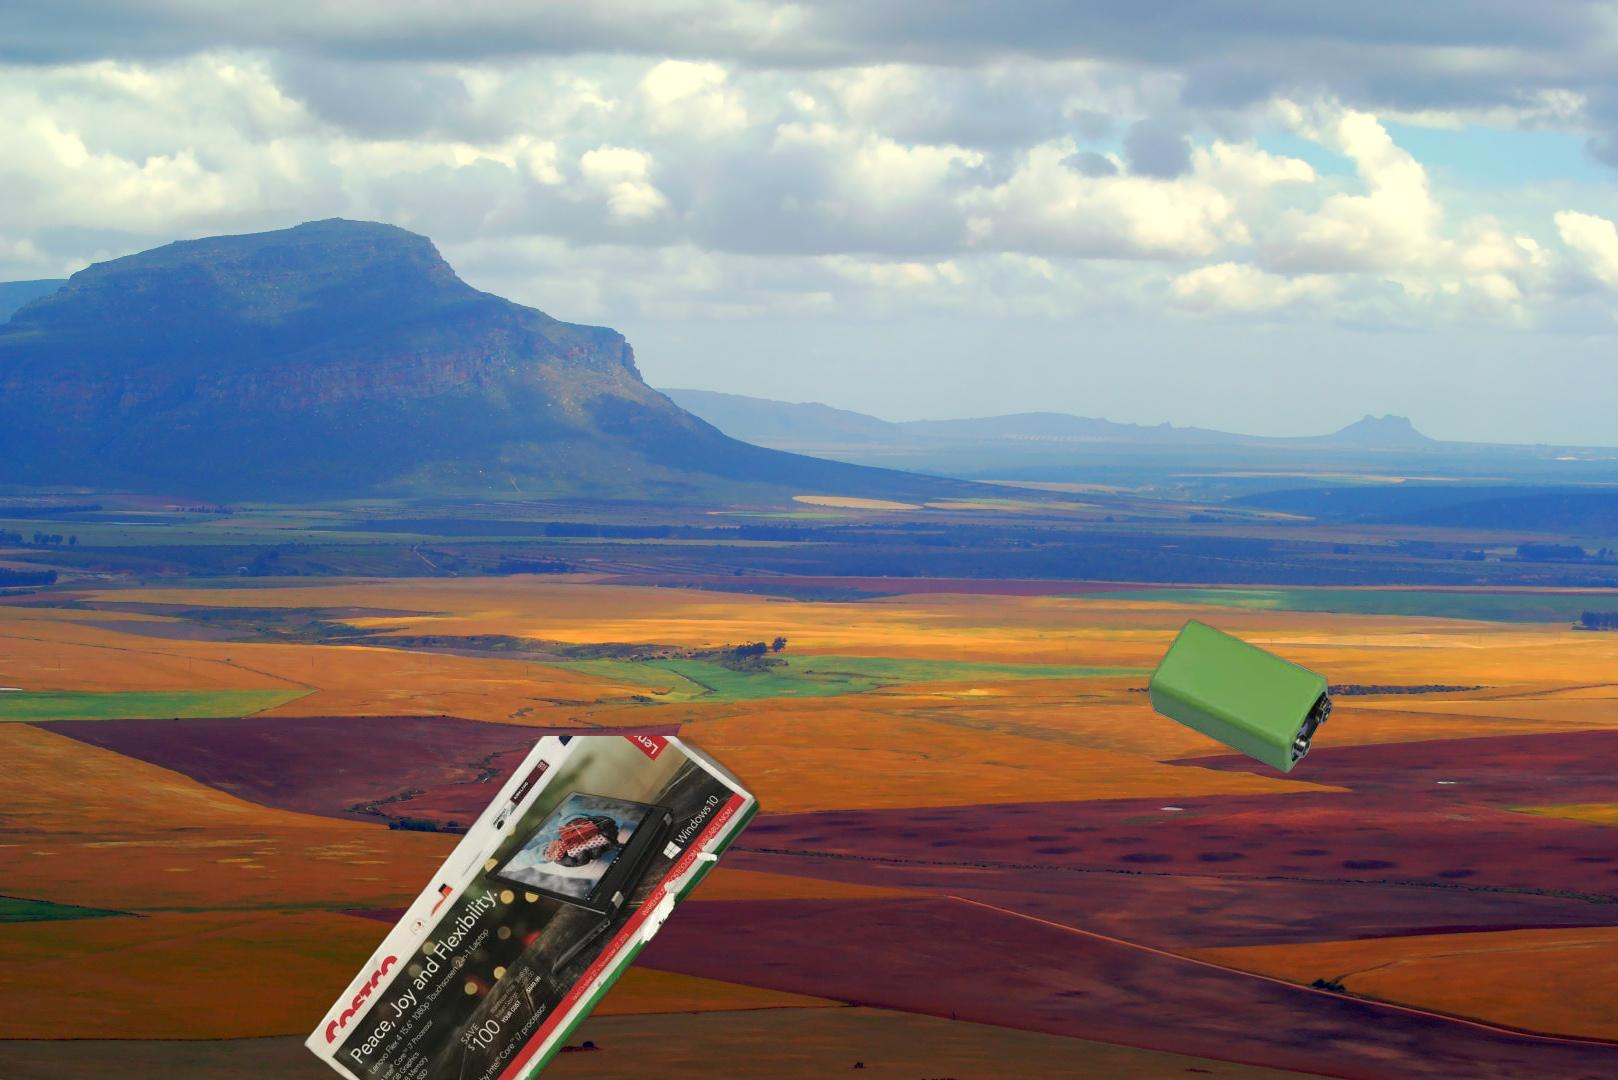battery: (1146, 616, 1336, 776)
paper: (299, 736, 765, 1080)
